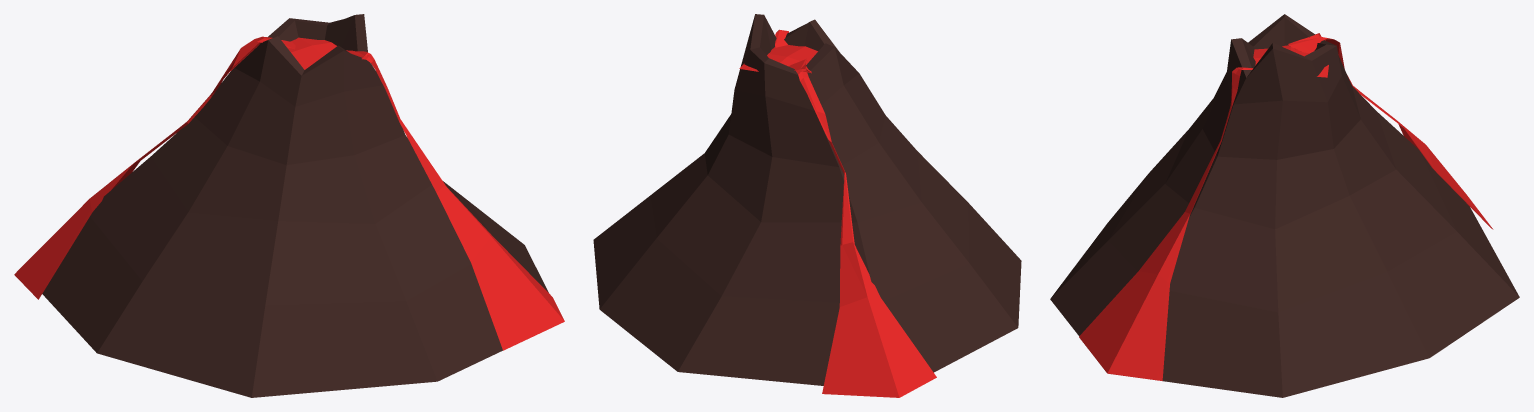
The model's file is Volcano.fbx.
3 views of the same model, side by side, from view 1: azimuth 30°, elevation 25°; view 2: azimuth 150°, elevation 25°; view 3: azimuth 270°, elevation 25° (orthographic). The views are drawn at different scales.
Parts seen in each view (by area): view 1: Volcano; view 2: Volcano; view 3: Volcano.
Part boxes in pixels (box(x1,y1,x2,y2)): Volcano: box(14, 14, 564, 397); Volcano: box(593, 14, 1021, 397); Volcano: box(1050, 14, 1519, 397).
Size of the model in its own units: 1912 by 1156 by 1809.
